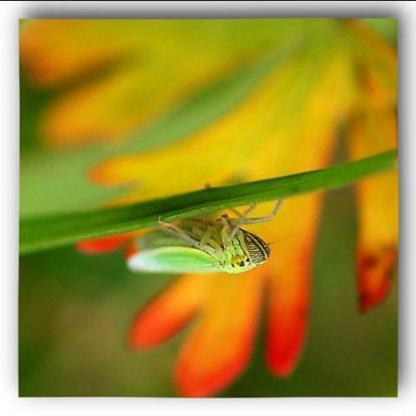green-leafhopper: (128, 214, 274, 278)
